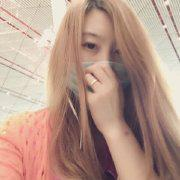OK: (68, 27, 144, 103)
